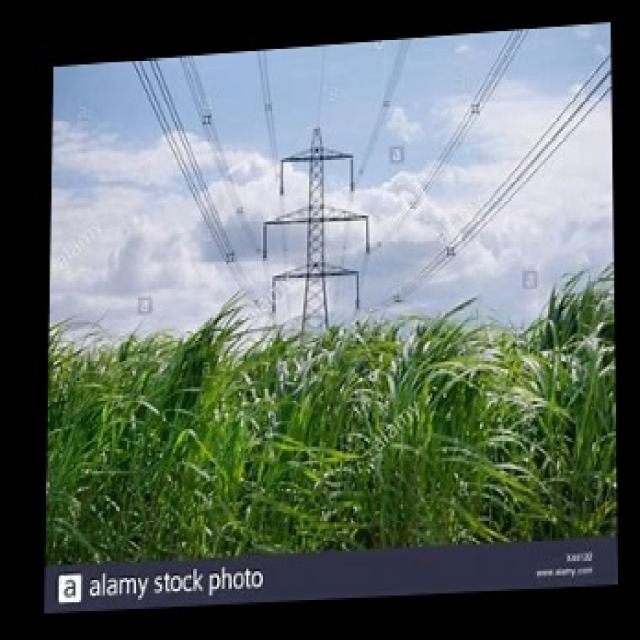utility poles: (216, 104, 412, 524)
